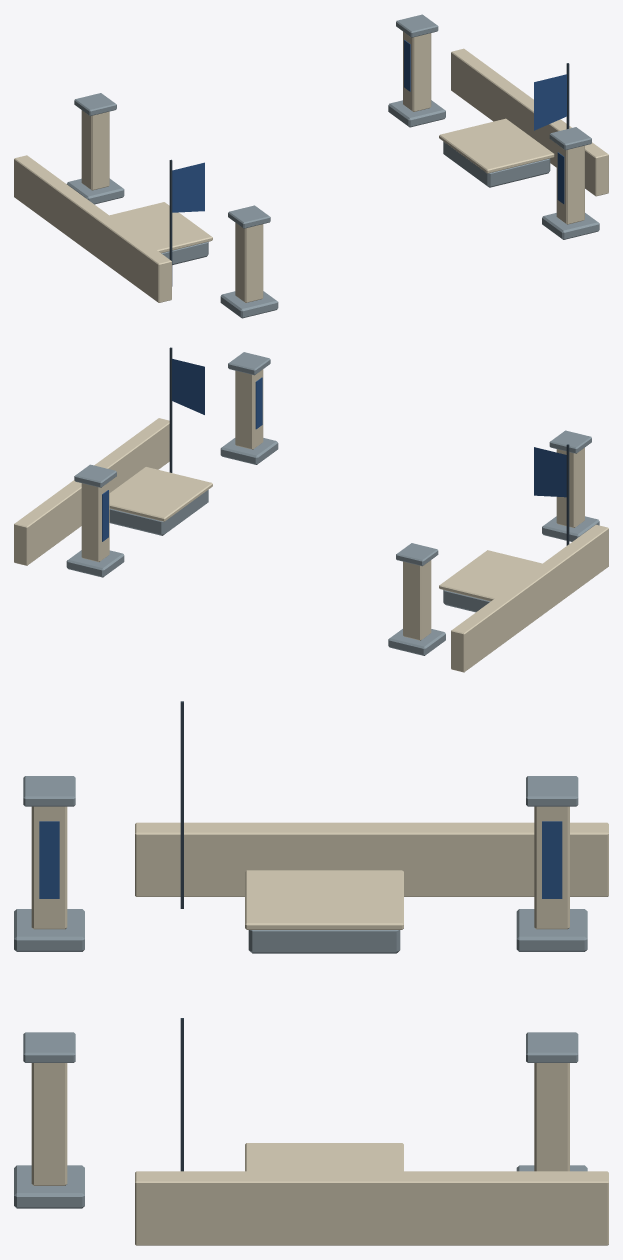
File: praca-sino.glb
3 renders of one model, top to bottom at view 1: azimuth 30°, elevation 25°; view 2: azimuth 150°, elevation 25°; view 3: azimuth 270°, elevation 25°, orthographic. The views are drawn at different scales.
Visible parts, largest first — view 1: PracaSino_Praca ivory, PracaSino_Praca shade, PracaSino_Praca cobalt, PracaSino_Praca iron; view 2: PracaSino_Praca ivory, PracaSino_Praca shade, PracaSino_Praca cobalt, PracaSino_Praca iron; view 3: PracaSino_Praca ivory, PracaSino_Praca shade, PracaSino_Praca cobalt, PracaSino_Praca iron.
Boxes of the visible parts, <box> form: PracaSino_Praca ivory: <box>14,31,608,302</box>; PracaSino_Praca shade: <box>67,14,599,318</box>; PracaSino_Praca cobalt: <box>172,40,566,212</box>; PracaSino_Praca iron: <box>169,63,569,286</box>; PracaSino_Praca ivory: <box>14,369,608,672</box>; PracaSino_Praca shade: <box>66,352,599,655</box>; PracaSino_Praca cobalt: <box>102,358,566,541</box>; PracaSino_Praca iron: <box>169,347,569,545</box>; PracaSino_Praca ivory: <box>31,806,608,1245</box>; PracaSino_Praca shade: <box>14,776,587,1208</box>; PracaSino_Praca cobalt: <box>39,821,562,898</box>; PracaSino_Praca iron: <box>180,701,183,1171</box>.
Bounding box in the file's own units: 17.95 × 4.8 × 12.55.
